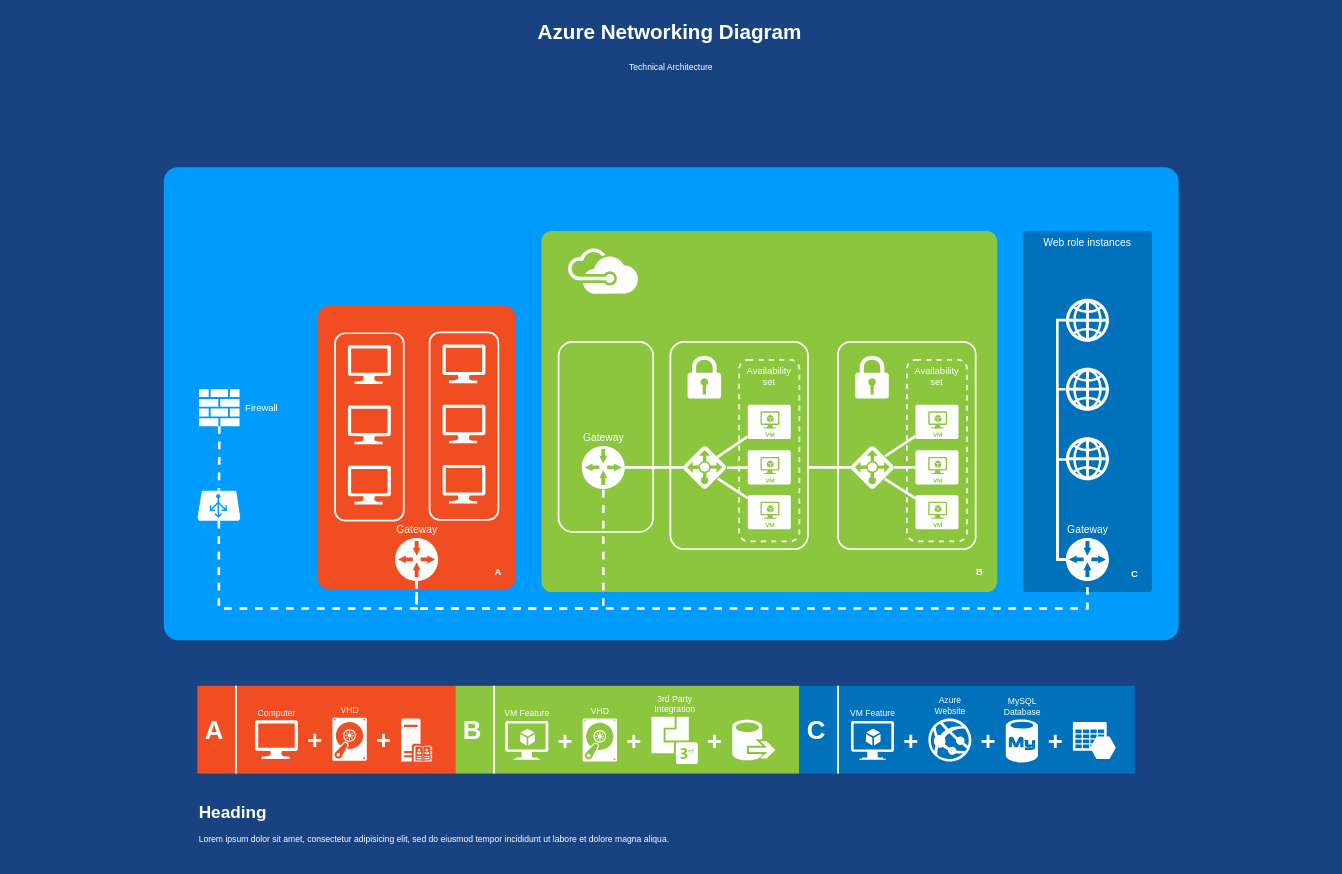
The diagram is 1342 pixels wide and 874 high, and some of its shapes have lost their labels. Here are the shapes that lost their labels. From the top down, the box of each, then its label:
(567, 248, 638, 293): Azure Vnet
(163, 167, 1178, 640): Azure Group
(317, 305, 515, 589): On-premises networks
(197, 490, 240, 520): Windows Azure Load Balancer
(401, 718, 432, 761): Server Directory
(732, 719, 775, 760): Data Migration Wizard
(1072, 722, 1115, 759): Azure Storage
